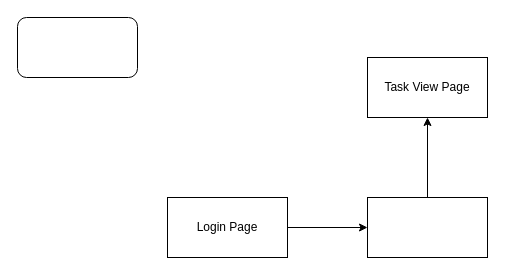
Image size: 505x275. Some labels were removed from this diagram. Each missing label, with the box of its shape:
404 Page: (16, 16, 138, 78)
Dashboard: (366, 196, 488, 258)
